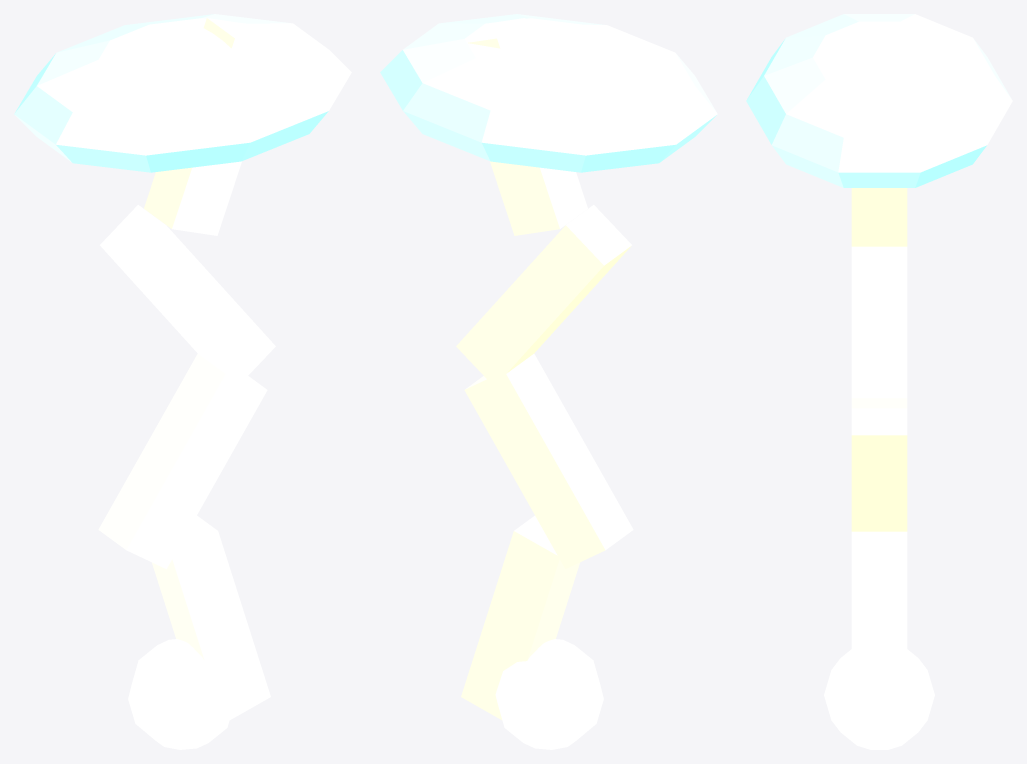
Rendered from lightning.glb.
The picture shows the model from 3 angles, left to right: view 1: azimuth 30°, elevation 25°; view 2: azimuth 150°, elevation 25°; view 3: azimuth 270°, elevation 25°; orthographic projection.
Parts seen in each view (by area): view 1: lightning; view 2: lightning; view 3: lightning.
Boxes of the visible parts, box(x1,y1,x2,y2) form: lightning: box(14, 14, 351, 749); lightning: box(380, 14, 717, 749); lightning: box(746, 14, 1012, 749).
Size of the model in its own units: 1.52 by 3.47 by 1.2.
